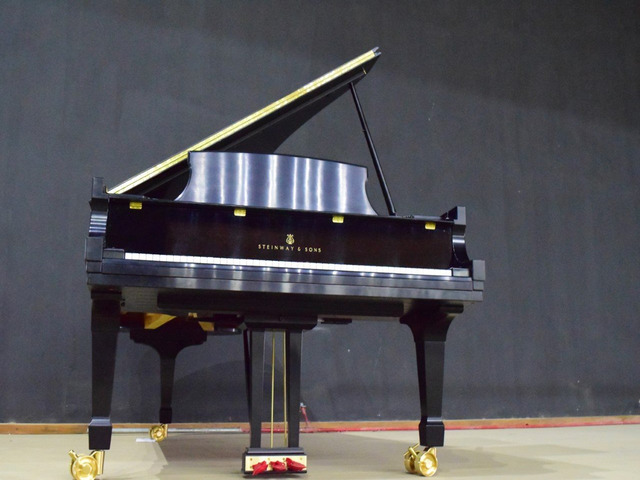Piano: (48, 3, 504, 473)
